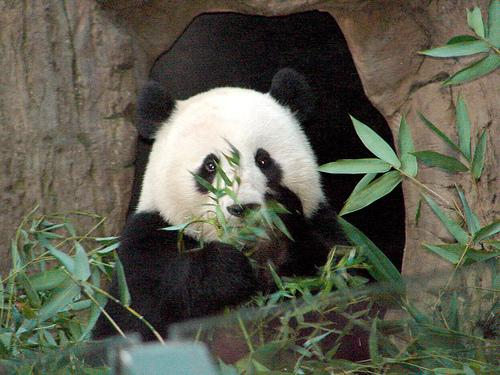panda: (118, 68, 346, 333)
